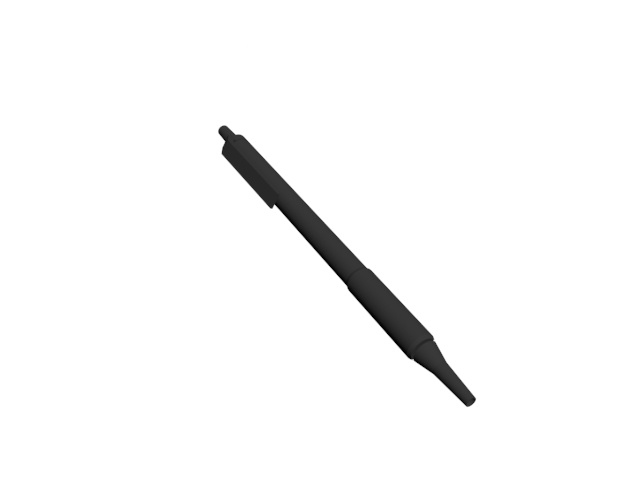pen: (217, 121, 480, 408)
